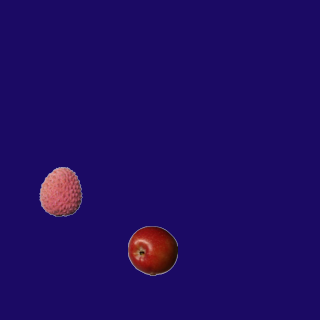Apple Braeburn: (127, 225, 177, 275)
Lychee: (35, 166, 85, 216)
